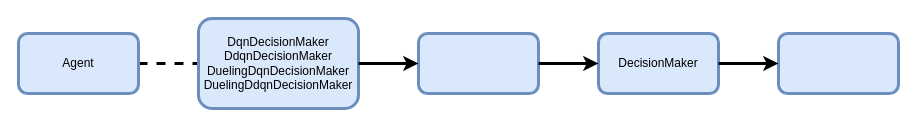
Image size: 917x127. Some labels were removed from this diagram. The box of each missing label's shape, as (x1, y1, x2, y2) in pixels:
ABC: (776, 32, 900, 94)
DqnBase: (416, 32, 540, 94)
